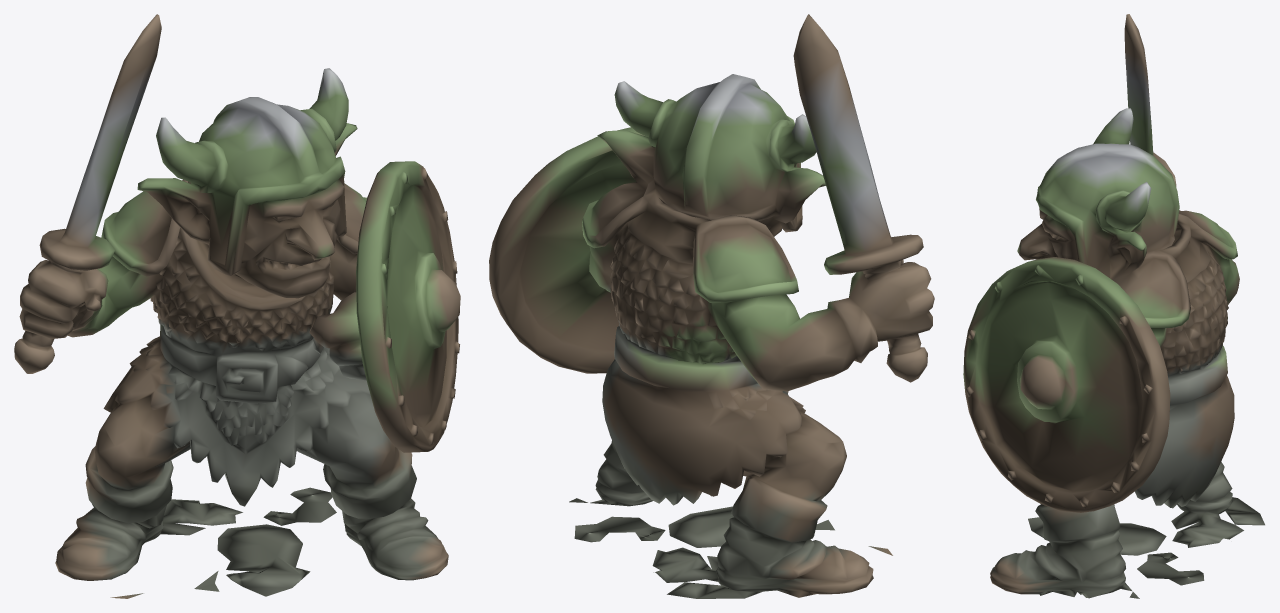
The model's file is sword.glb.
The picture shows the model from 3 angles, left to right: view 1: azimuth 30°, elevation 25°; view 2: azimuth 150°, elevation 25°; view 3: azimuth 270°, elevation 25°; orthographic projection. The views are drawn at different scales.
Parts seen in each view (by area): view 1: world; view 2: world; view 3: world.
Boxes of the visible parts, <box> form: world: <box>14,14,460,598</box>; world: <box>489,14,934,598</box>; world: <box>963,14,1264,598</box>.
Bounding box in the file's own units: 1.3 × 1.55 × 0.878.
